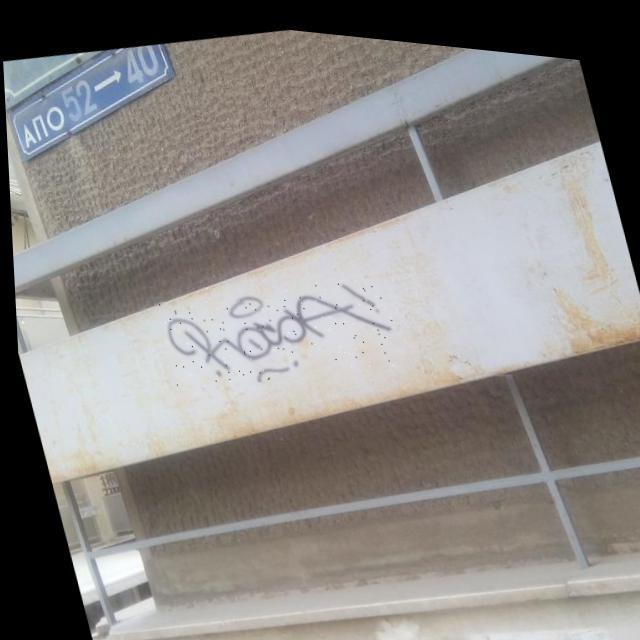-: (148, 250, 404, 404)
